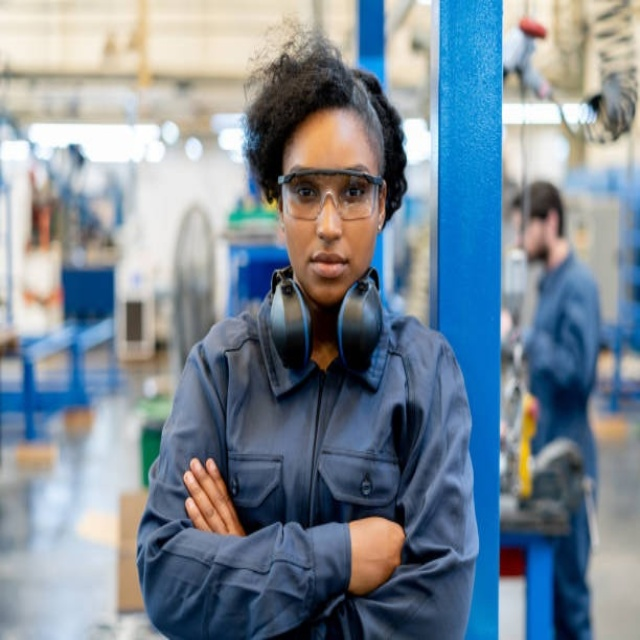Gafas: (277, 170, 385, 221)
Sin_guantes: (183, 455, 246, 537)
Sin_mascara: (301, 242, 351, 294)
